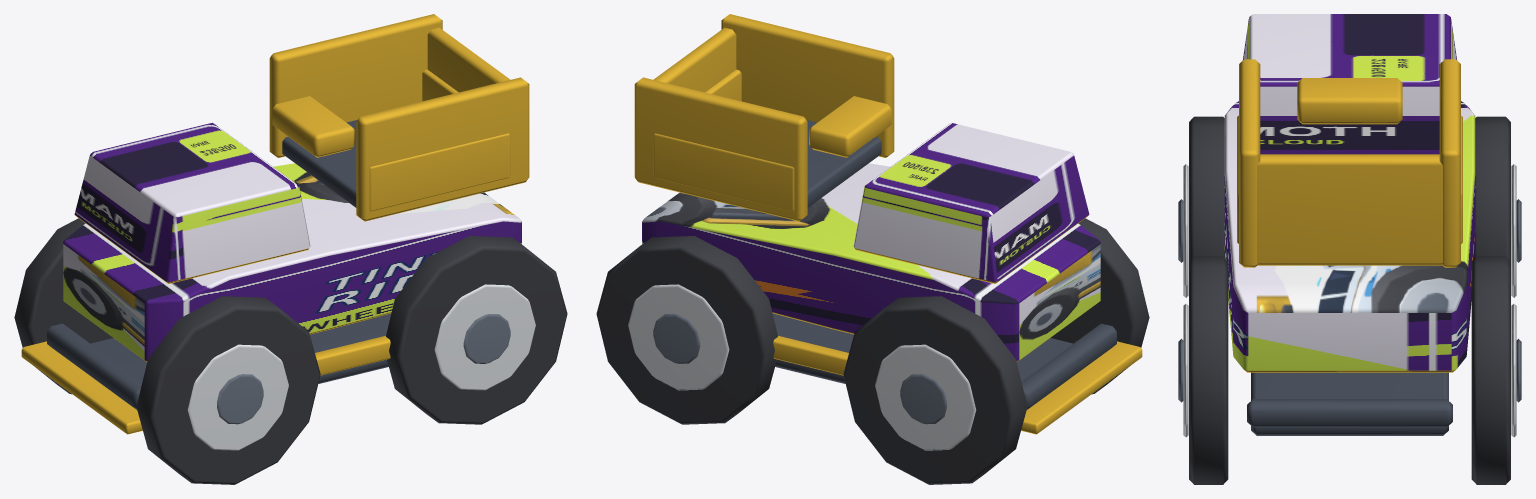
3 views of the same model, side by side, from view 1: azimuth 30°, elevation 25°; view 2: azimuth 150°, elevation 25°; view 3: azimuth 270°, elevation 25° (orthographic). The views are drawn at different scales.
Parts seen in each view (by area): view 1: BW-04_connected_shell, BW-04_cabin, Tire, Tire.002, raised tipper wall, raised tipper wall.001, cargo side, Rim, Rim.002, Tire.001, custom chin, custom equipment (+8 smaller); view 2: BW-04_connected_shell, BW-04_cabin, Tire.001, Tire.003, raised tipper wall.001, raised tipper wall, cargo side.001, Rim.001, Rim.003, Tire, custom chin, custom equipment (+8 smaller); view 3: BW-04_connected_shell, BW-04_cabin, raised tail gate, Tire.002, Tire.003, underbody, rear bumper, Tire, Tire.001, custom equipment, raised tipper wall, raised tipper wall.001 (+6 smaller).
Boxes of the visible parts, x1,y1,x2,y2 form: BW-04_connected_shell: [63, 163, 521, 361]; BW-04_cabin: [74, 122, 310, 283]; Tire: [136, 296, 320, 484]; Tire.002: [386, 236, 567, 424]; raised tipper wall: [356, 77, 529, 221]; raised tipper wall.001: [269, 14, 442, 157]; cargo side: [369, 133, 510, 211]; Rim: [187, 344, 288, 450]; Rim.002: [434, 284, 535, 390]; Tire.001: [14, 218, 113, 394]; custom chin: [21, 341, 142, 434]; custom equipment: [272, 96, 354, 157]; BW-04_connected_shell: [642, 163, 1100, 361]; BW-04_cabin: [853, 122, 1089, 283]; Tire.001: [843, 296, 1027, 484]; Tire.003: [596, 236, 777, 424]; raised tipper wall.001: [634, 77, 807, 221]; raised tipper wall: [721, 14, 894, 157]; cargo side.001: [653, 133, 794, 211]; Rim.001: [875, 344, 976, 450]; Rim.003: [628, 284, 729, 390]; Tire: [1050, 218, 1149, 394]; custom chin: [1021, 341, 1142, 434]; custom equipment: [809, 96, 891, 157]; BW-04_connected_shell: [1224, 101, 1475, 372]; BW-04_cabin: [1242, 14, 1457, 154]; raised tail gate: [1257, 154, 1442, 265]; Tire.002: [1189, 256, 1228, 484]; Tire.003: [1471, 256, 1510, 484]; underbody: [1251, 372, 1448, 435]; rear bumper: [1247, 399, 1452, 427]; Tire: [1189, 116, 1224, 260]; Tire.001: [1475, 116, 1510, 260]; custom equipment: [1297, 78, 1402, 124]; raised tipper wall: [1239, 59, 1260, 267]; raised tipper wall.001: [1439, 59, 1460, 267].
Bounding box in the file's own units: 378 × 264 × 227.
